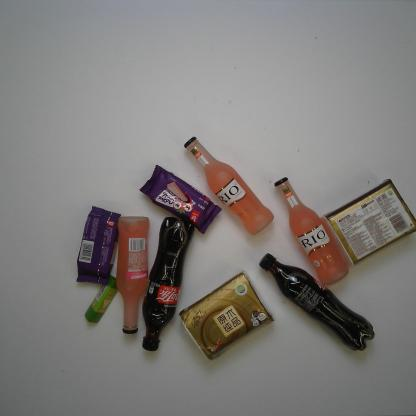Alcohol: (184, 135, 274, 235), (273, 175, 351, 286), (115, 214, 150, 335)
Dessert: (137, 165, 222, 234), (74, 205, 121, 285)
Drink: (258, 253, 376, 352), (140, 216, 196, 353)
Stationery: (81, 272, 120, 324)
Tissue: (178, 268, 275, 362), (322, 178, 416, 265)
